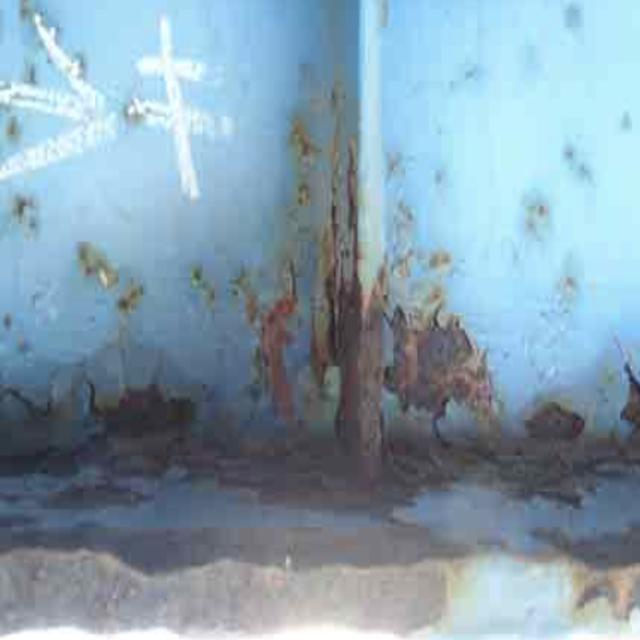corrosion: (34, 213, 637, 606)
